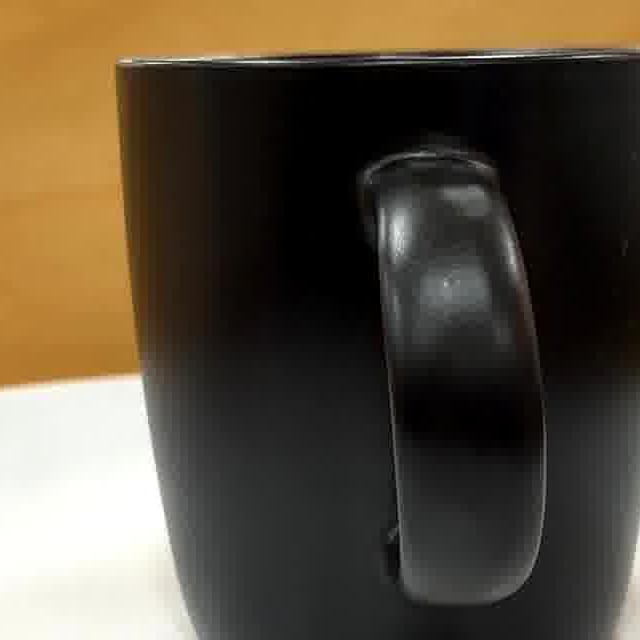cup: (122, 53, 640, 640)
